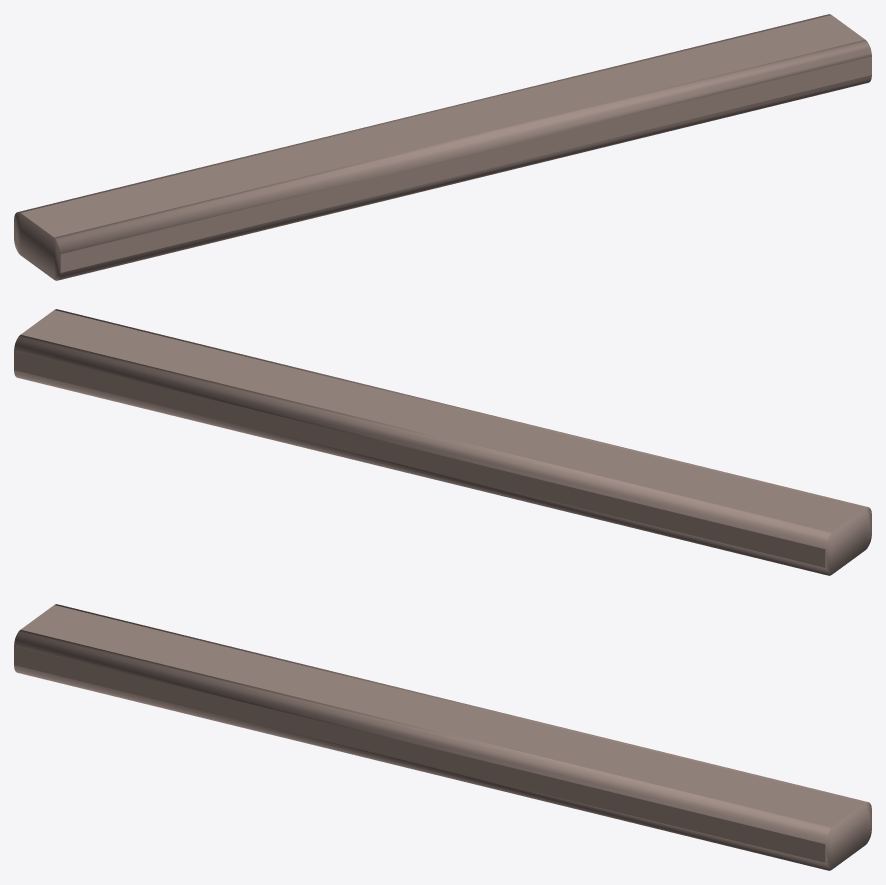
Rendered from Ridge.glb.
The picture shows the model from 3 angles, top to bottom: view 1: azimuth 30°, elevation 25°; view 2: azimuth 150°, elevation 25°; view 3: azimuth 330°, elevation 25°; orthographic projection.
Visible parts, largest first — view 1: PBK_ridge.003; view 2: PBK_ridge.003; view 3: PBK_ridge.003.
Boxes of the visible parts, left/top/right/bottom form: PBK_ridge.003: left=14, top=14, right=871, bottom=280; PBK_ridge.003: left=14, top=309, right=871, bottom=575; PBK_ridge.003: left=14, top=604, right=871, bottom=870.
Size of the model in its own units: 2 by 0.1 by 0.2.
